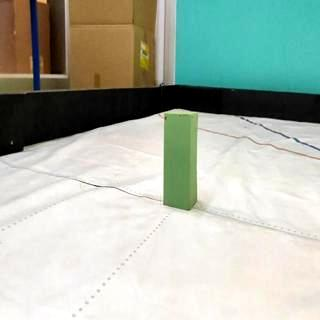greenbox: (162, 110, 198, 210)
